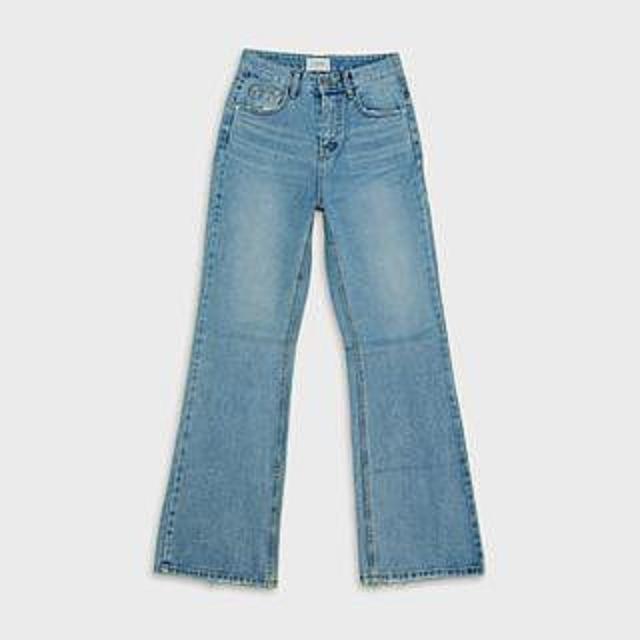TROUSER: (149, 32, 496, 598)
